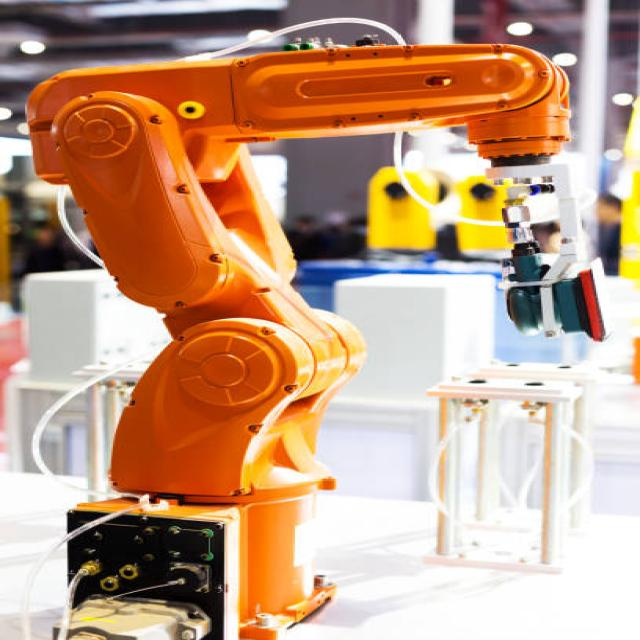Robotic-arm: (0, 34, 585, 640)
